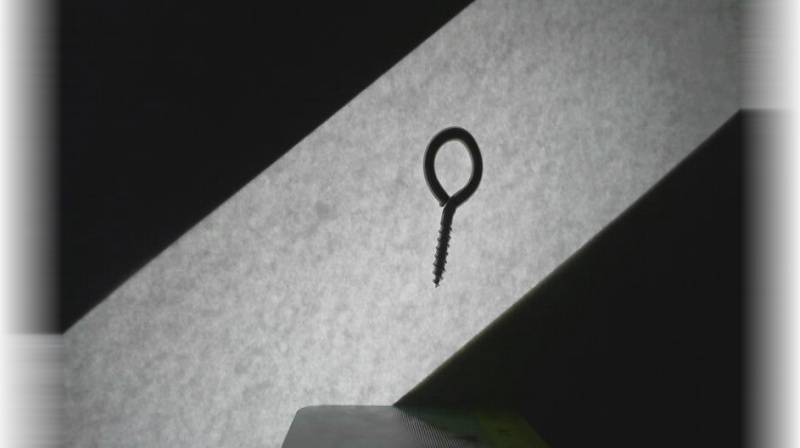O001: (415, 123, 486, 291)
